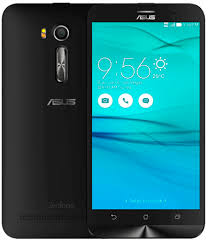asus: (86, 1, 207, 240), (1, 1, 89, 239)
